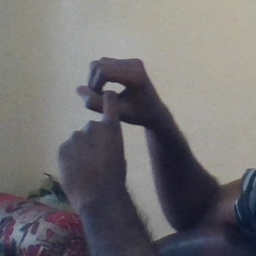Q: (55, 54, 161, 174)
